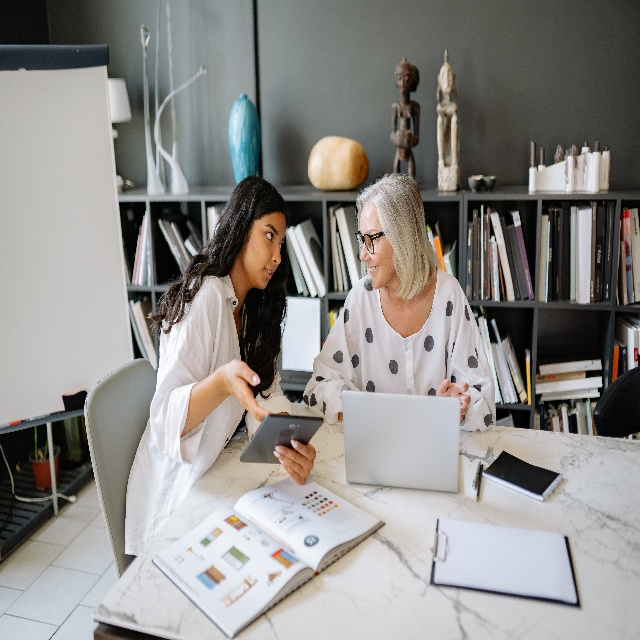Gafas: (356, 229, 386, 254)
Sin_guantes: (223, 359, 268, 426), (272, 436, 314, 484), (436, 378, 472, 422)
